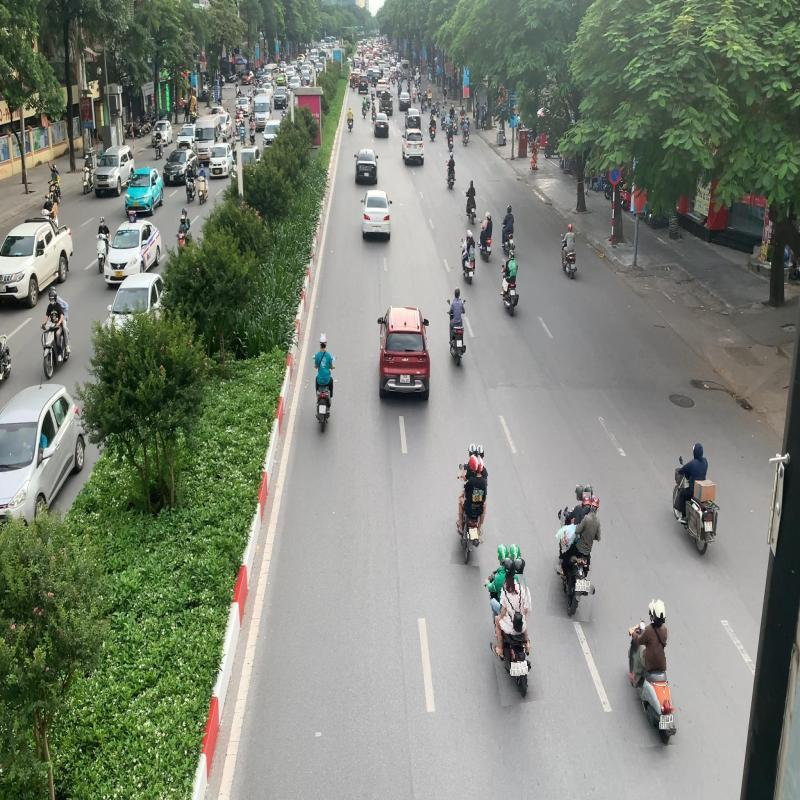helmet: (652, 598, 666, 623), (508, 544, 520, 564), (468, 454, 480, 473), (514, 557, 526, 574), (574, 484, 584, 501), (582, 492, 592, 508), (468, 443, 478, 458)
licenseplate: (659, 714, 670, 730), (511, 662, 522, 676), (469, 527, 479, 540), (582, 579, 590, 592)
motorcyclist: (483, 539, 539, 705), (550, 480, 606, 621), (624, 596, 676, 746), (453, 442, 490, 566)
